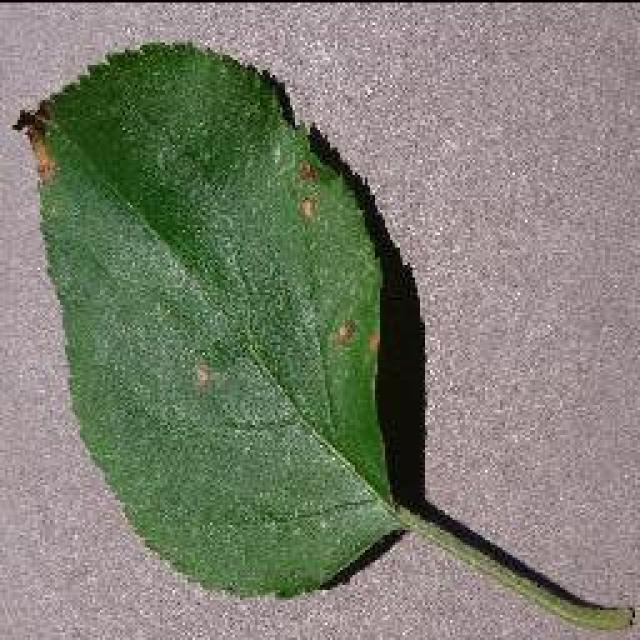Black_rot: (13, 35, 635, 633)
